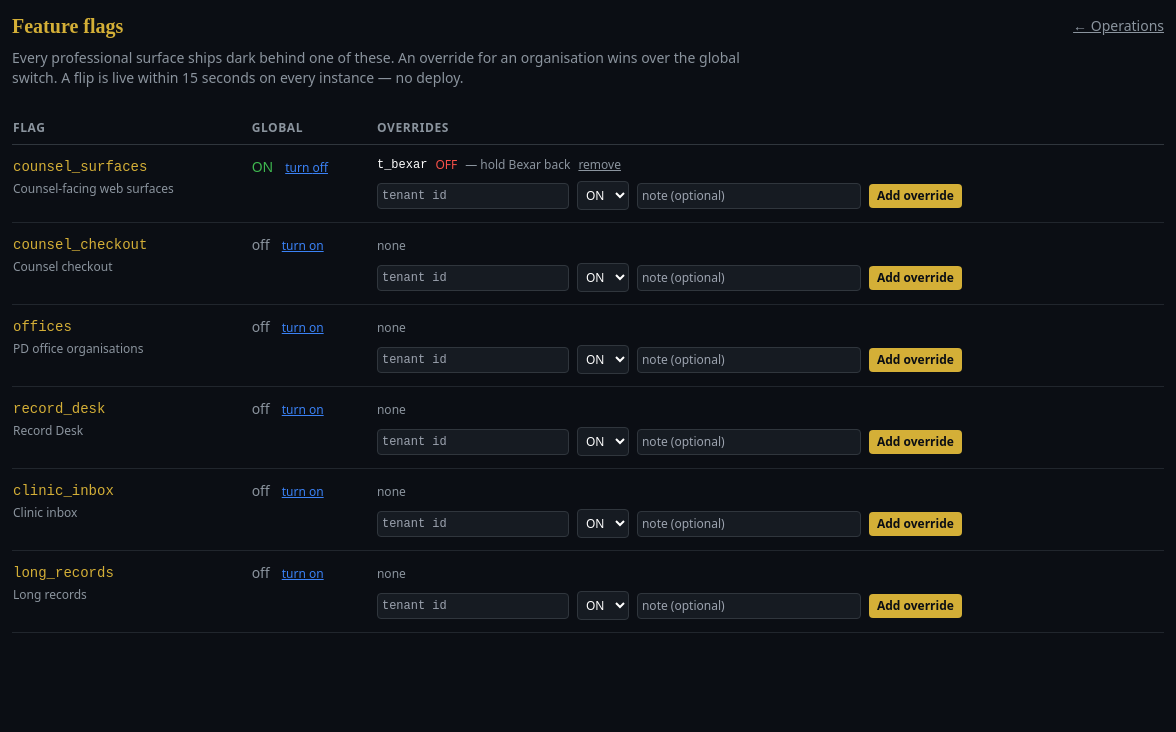
Scenario: flags page › lists the six flags with global state and overrides; ADMIN toggles the global switch with a PUT
The width and height of the screenshot is (1176, 732).
Check: the text with test id "flag-global-counsel_surfaces" reads "ON", box [252,157,273,176]
Check: the text with test id "flag-global-offices" reads "off", box [252,317,270,336]
Click the button with test id "flag-toggle-counsel_surfaces": (307, 168) [285,160,328,176]
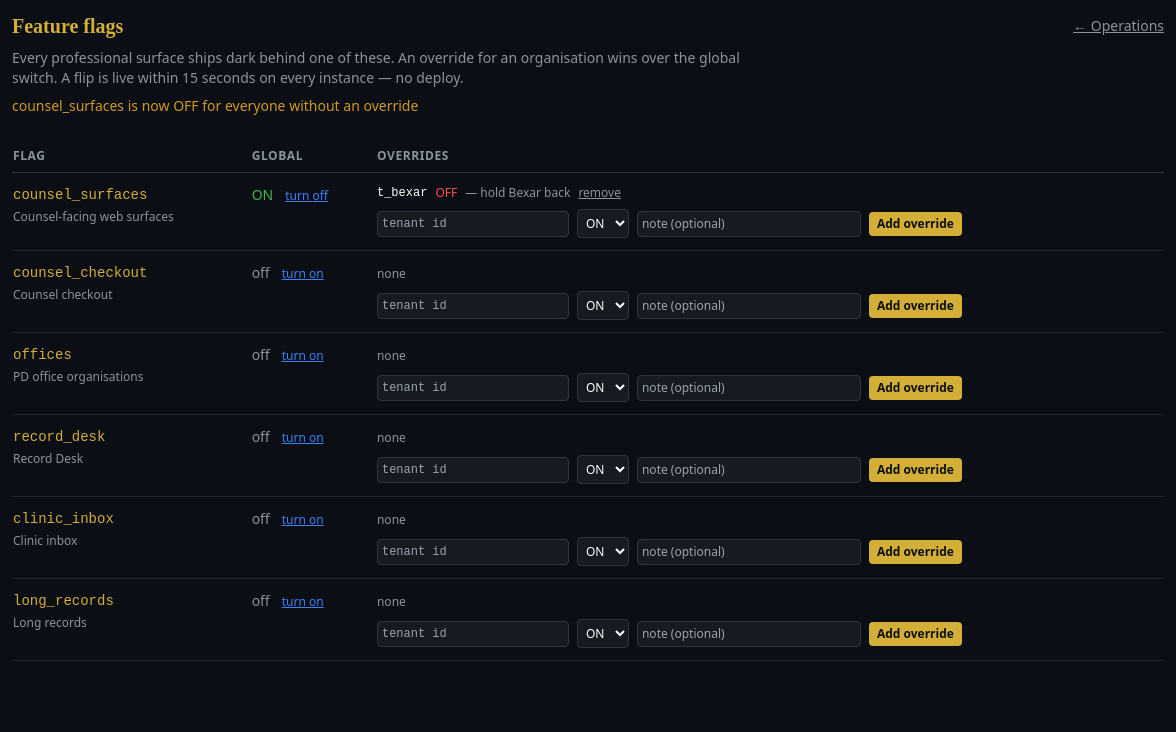
Check: the text with test id "flags-notice" shows "counsel_surfaces is now OFF", box [12,96,418,115]
